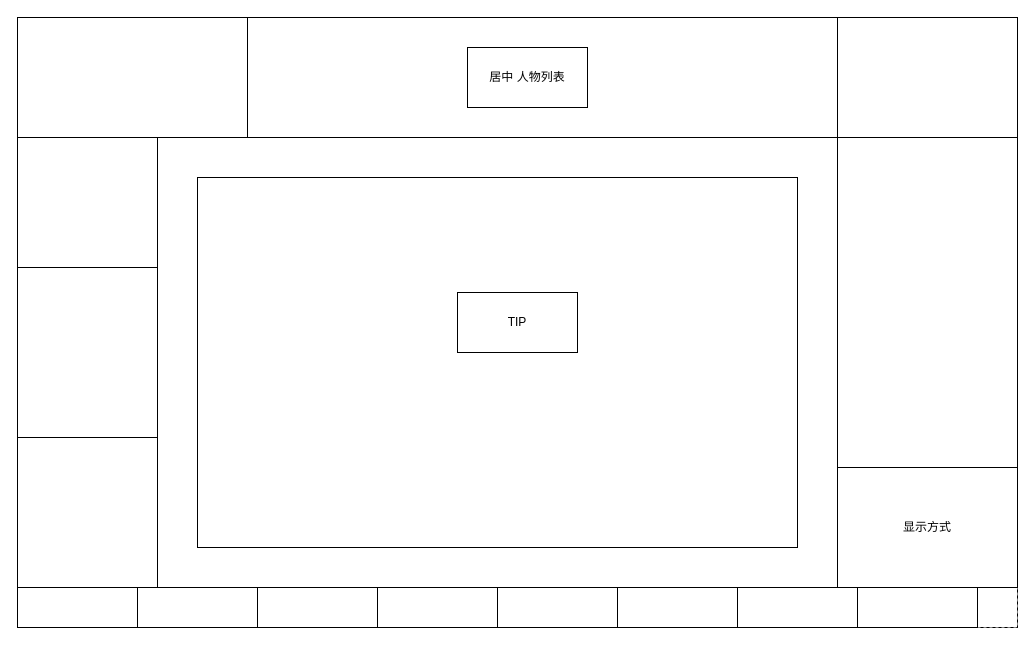
Some shapes in this 1035 by 645 pixel diagram are drawn without their labels. Each missing label, with the box of its shape:
date section: (16, 16, 248, 138)
物品列表: (836, 136, 1018, 468)
